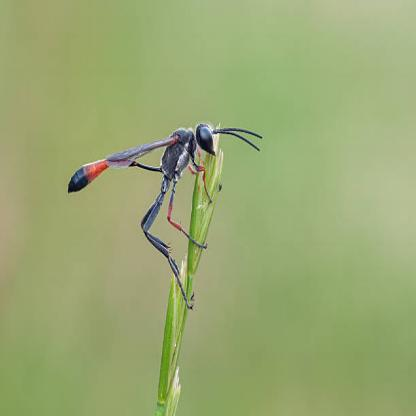sawfly: (64, 121, 264, 318)
